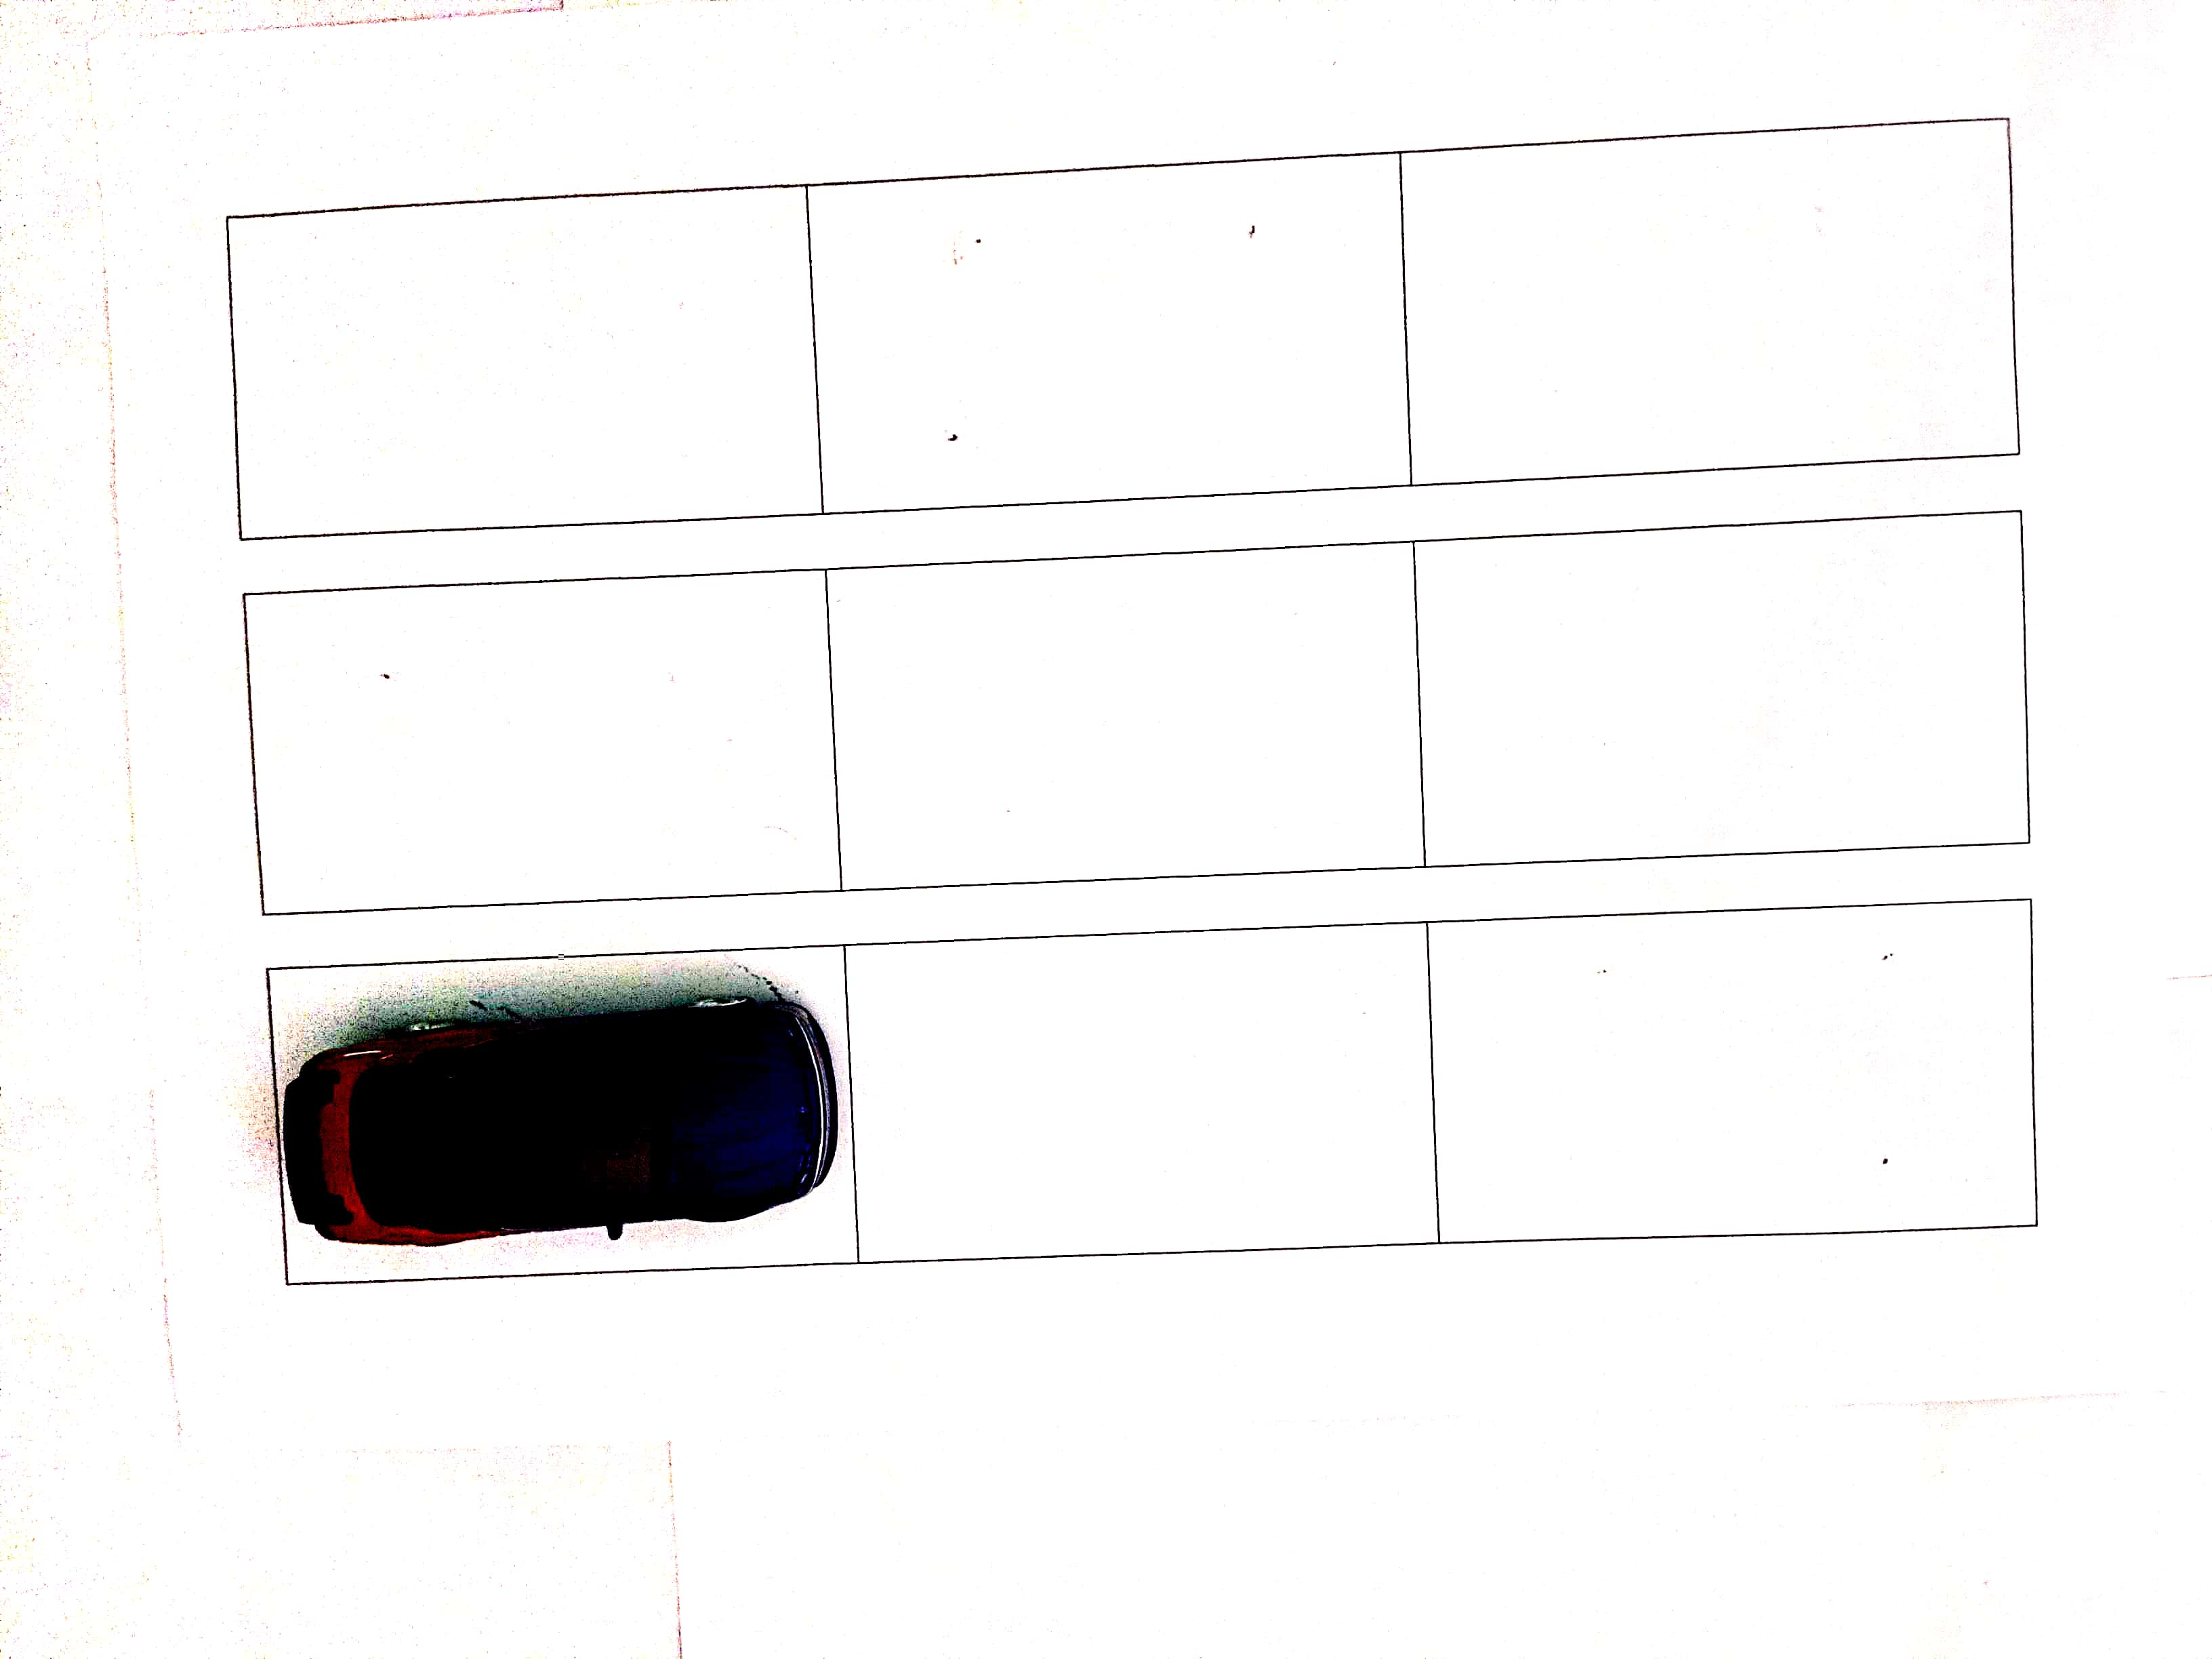Busy: (254, 962, 857, 1265)
Free: (815, 152, 1402, 509), (1409, 127, 2022, 458), (1421, 526, 2026, 849), (864, 917, 1426, 1255), (228, 186, 803, 516), (1439, 908, 2026, 1229), (833, 565, 1414, 884), (254, 586, 834, 884)
